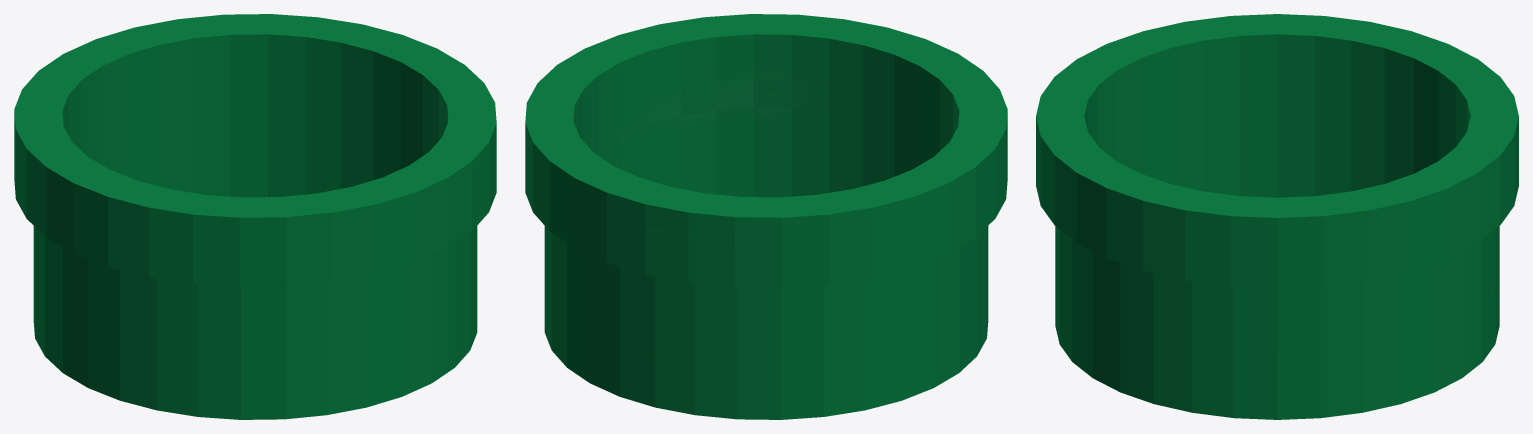
File: pipe_2.fbx
The picture shows the model from 3 angles, left to right: view 1: azimuth 30°, elevation 25°; view 2: azimuth 150°, elevation 25°; view 3: azimuth 270°, elevation 25°; orthographic projection.
Visible parts, largest first — view 1: Base Pipe; view 2: Base Pipe; view 3: Base Pipe.
Part boxes in pixels (left/top/right/bottom): Base Pipe: left=14, top=14, right=496, bottom=419; Base Pipe: left=525, top=14, right=1007, bottom=419; Base Pipe: left=1036, top=14, right=1518, bottom=419.
Size of the model in its own units: 250 by 120 by 250.
